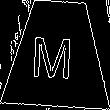M_N: (35, 28, 80, 81)
